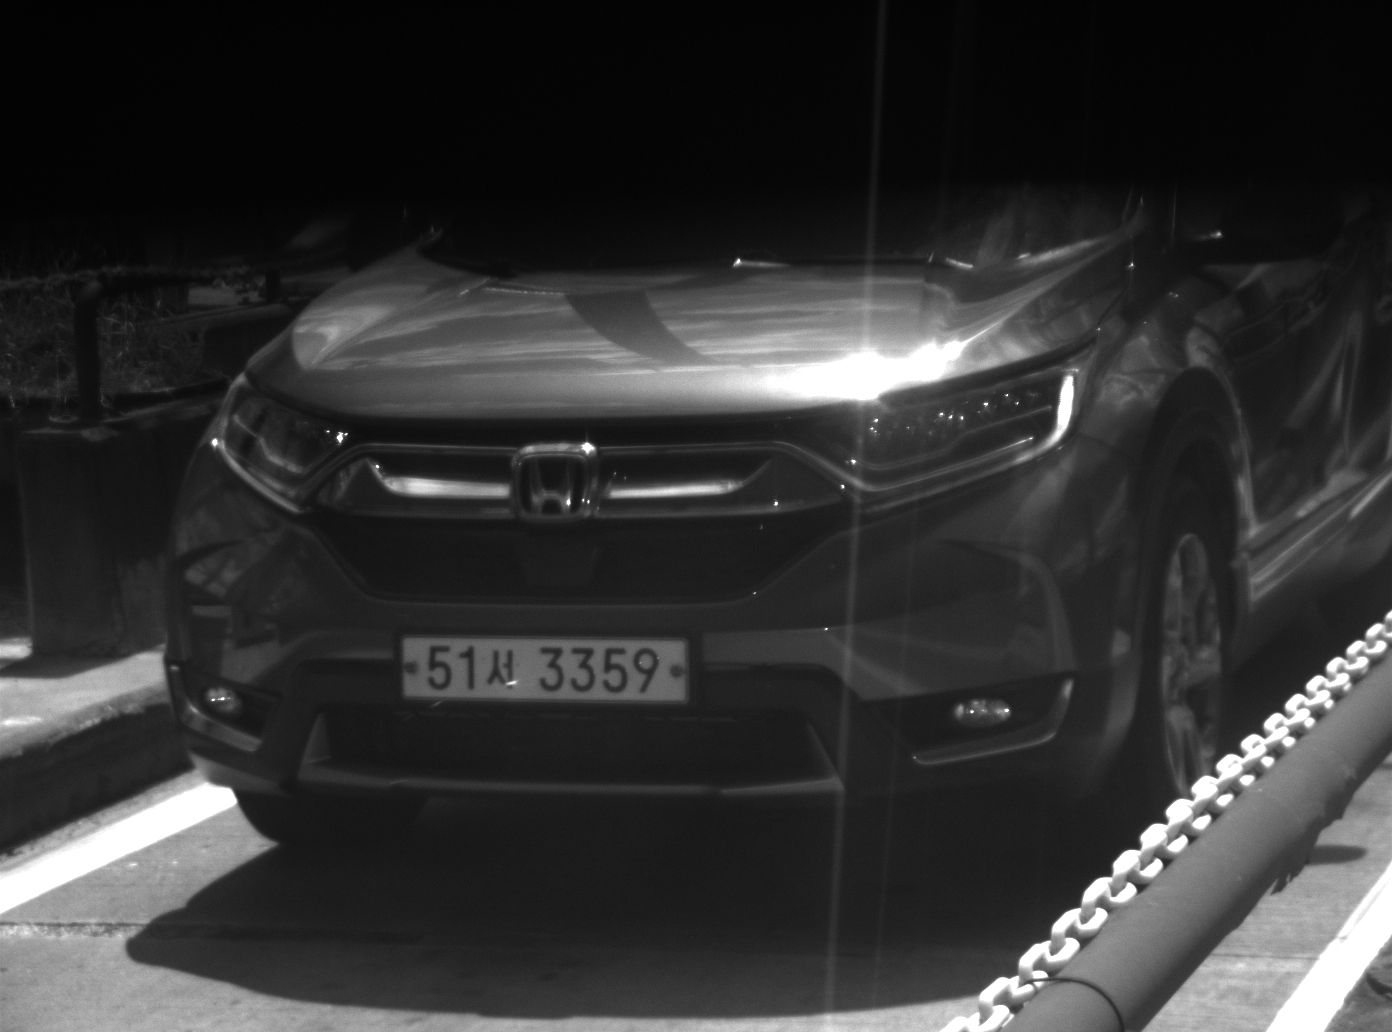car: (167, 216, 1392, 851)
plate: (397, 635, 693, 703)
